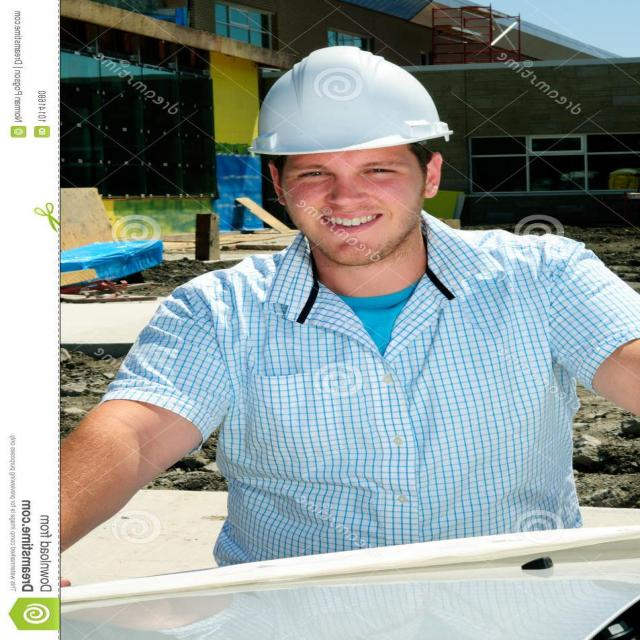Safety-Helmet: (238, 44, 454, 158)
